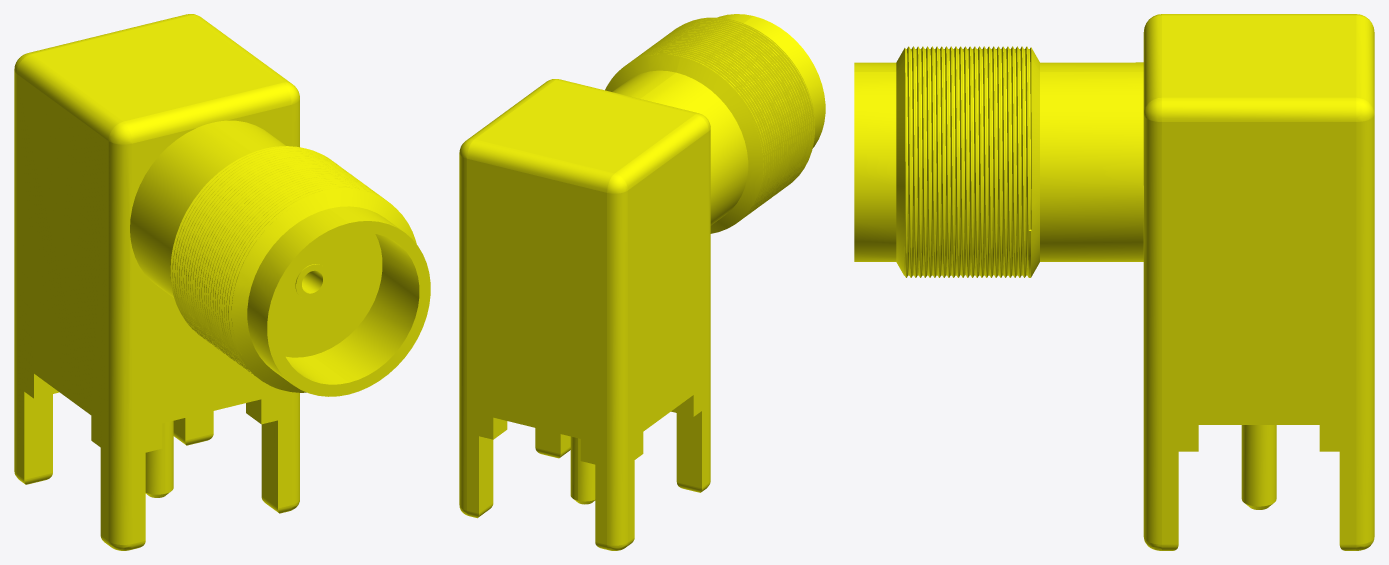
3 views of the same model, side by side, from view 1: azimuth 30°, elevation 25°; view 2: azimuth 150°, elevation 25°; view 3: azimuth 270°, elevation 25° (orthographic). The views are drawn at different scales.
Visible parts, largest first — view 1: 5-1814400-1; view 2: 5-1814400-1; view 3: 5-1814400-1.
Part boxes in pixels (<box>): 5-1814400-1: <box>14,14,430,550</box>; 5-1814400-1: <box>459,14,825,550</box>; 5-1814400-1: <box>854,14,1374,550</box>.
Size of the model in its own units: 6.33 by 13.53 by 14.2.
